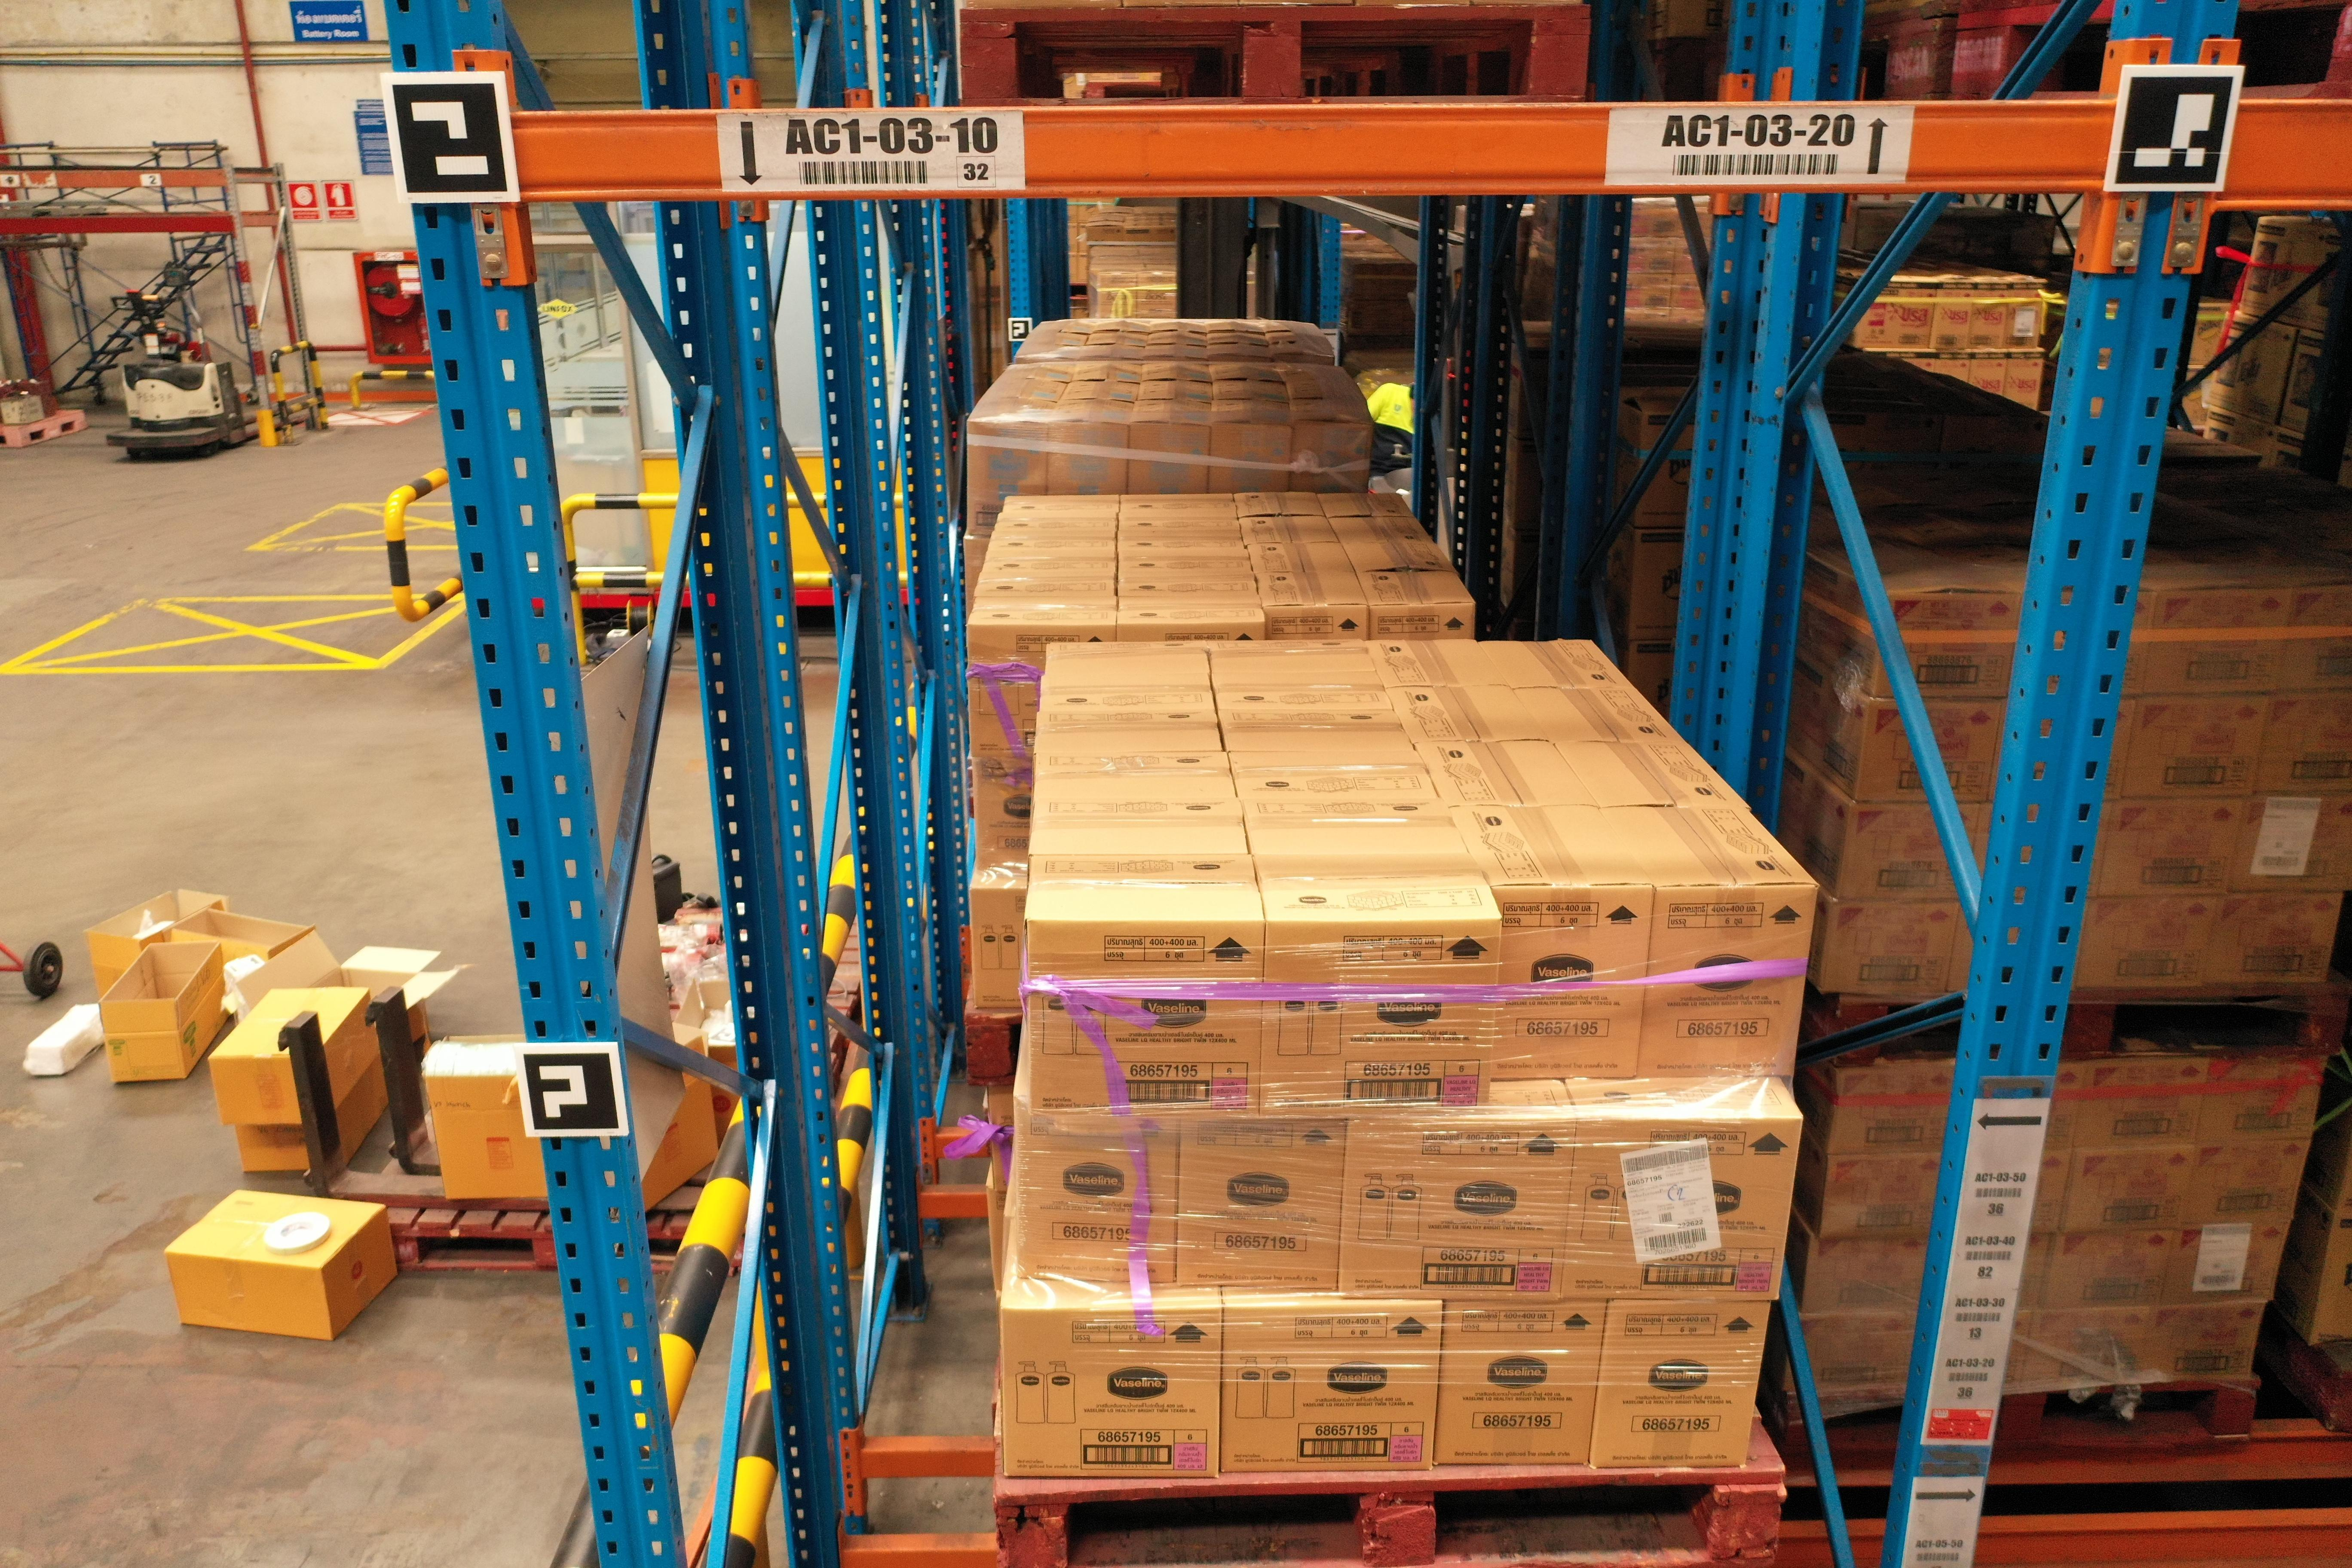-: (1027, 917, 1265, 1115), (1262, 920, 1505, 1113), (1339, 1108, 1577, 1304), (1564, 1111, 1802, 1302), (1003, 1305, 1225, 1480), (1220, 1304, 1445, 1470), (1640, 885, 1820, 1081), (1011, 1104, 1181, 1297), (1491, 884, 1654, 1081), (1591, 1297, 1773, 1472), (1179, 1108, 1347, 1293), (1438, 1300, 1608, 1465)
box: (1853, 695, 2004, 807), (1874, 590, 2023, 702), (2075, 894, 2229, 997), (2098, 794, 2247, 901), (2142, 588, 2287, 696), (2121, 693, 2266, 800), (1834, 803, 1977, 906), (1818, 899, 1955, 1003), (2207, 892, 2343, 994), (2224, 796, 2352, 899), (2075, 1057, 2208, 1153), (1829, 1062, 1956, 1162), (2180, 1141, 2310, 1234), (2060, 1148, 2198, 1234), (2245, 688, 2352, 796), (2198, 1053, 2324, 1144), (2021, 1304, 2151, 1391), (2156, 1223, 2287, 1309), (1790, 1316, 1921, 1398), (2039, 1230, 2175, 1309), (1818, 1157, 1941, 1242), (1802, 1239, 1930, 1319), (2138, 1305, 2266, 1384), (2270, 586, 2352, 695)
